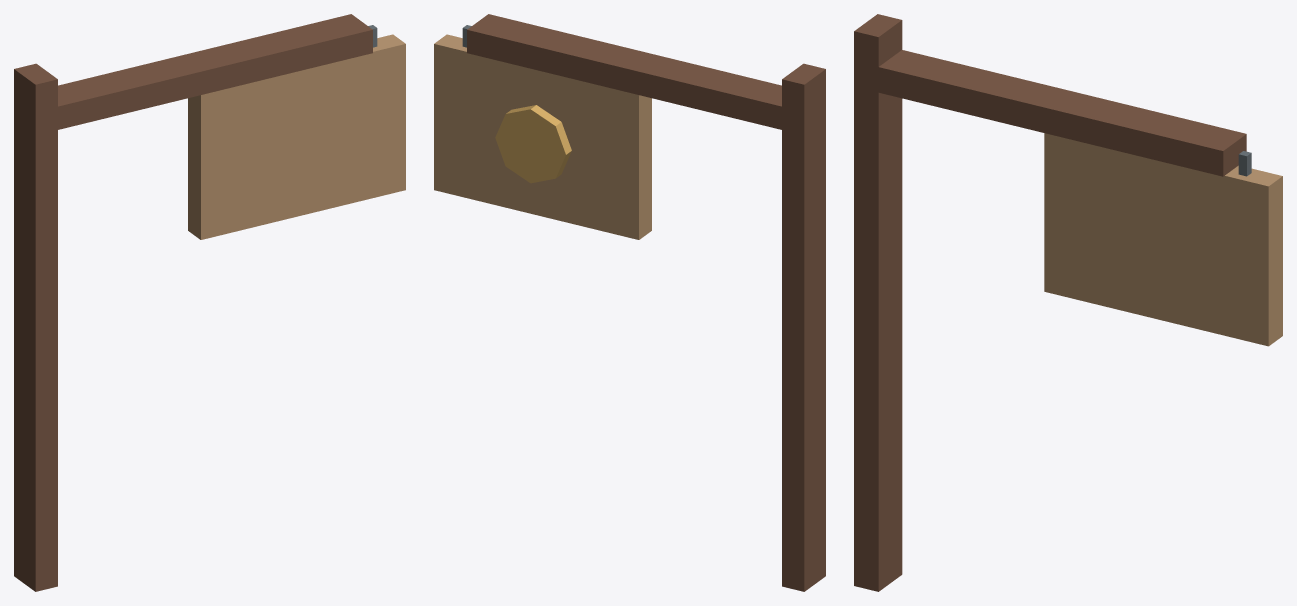
The model's file is tavern_inn_sign.glb.
The picture shows the model from 3 angles, left to right: view 1: azimuth 30°, elevation 25°; view 2: azimuth 150°, elevation 25°; view 3: azimuth 330°, elevation 25°; orthographic projection. The views are drawn at different scales.
Parts seen in each view (by area): view 1: tavern_inn_sign_Mesh; view 2: tavern_inn_sign_Mesh; view 3: tavern_inn_sign_Mesh.
Part boxes in pixels (x1,y1,x2,y2): tavern_inn_sign_Mesh: (14,14,405,591); tavern_inn_sign_Mesh: (434,14,825,591); tavern_inn_sign_Mesh: (854,14,1282,591).
Size of the model in its own units: 2.01 by 2.6 by 0.215.
